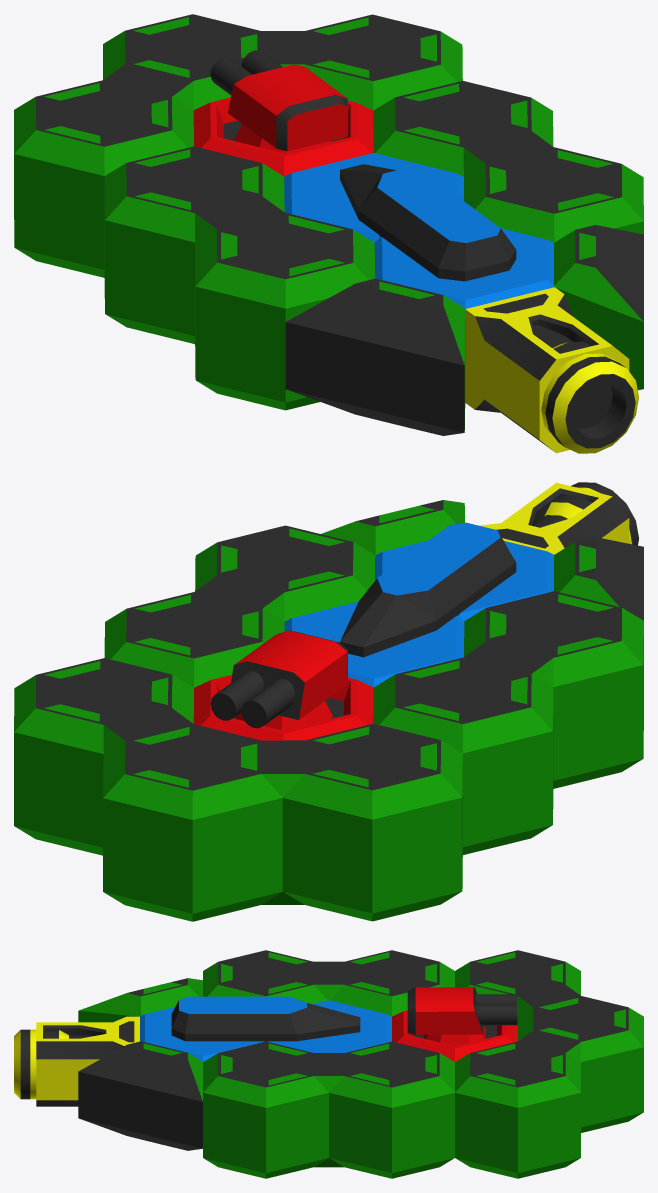
Rendered from SM_ShipDesign_Default_BO.fbx.
3 views of the same model, one above another, from view 1: azimuth 30°, elevation 25°; view 2: azimuth 150°, elevation 25°; view 3: azimuth 270°, elevation 25° (orthographic). The views are drawn at different scales.
Visible parts, largest first — view 1: SM_Module_Bridge_BO.005; view 2: SM_Module_Bridge_BO.005; view 3: SM_Module_Bridge_BO.005.
Part boxes in pixels (box(x1,y1,x2,y2)): SM_Module_Bridge_BO.005: box(14, 14, 643, 453); SM_Module_Bridge_BO.005: box(14, 482, 643, 921); SM_Module_Bridge_BO.005: box(14, 950, 643, 1178).
Size of the model in its own units: 10 by 17.5 by 3.53.
